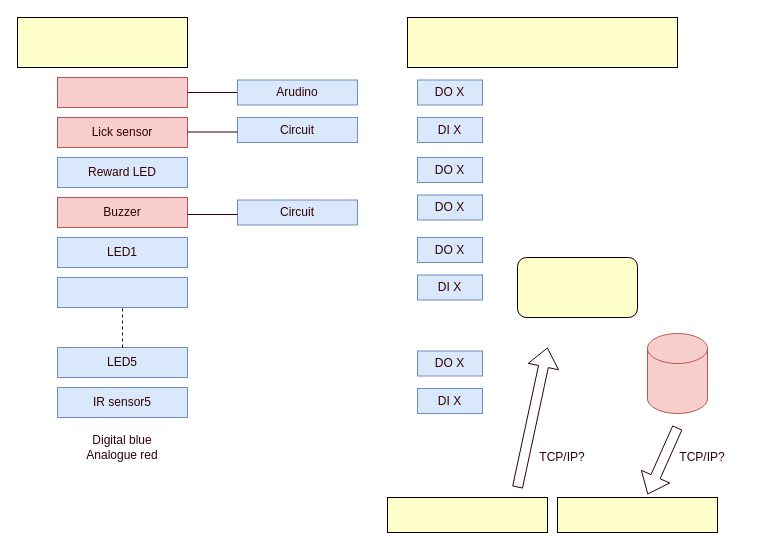
The diagram is 775 pixels wide and 551 high, and some of its shapes have lost their labels. The centre of each missing label's shape, as x and y in pixels:
Controller: point 577,287
IR sensor1: point 122,292
Operant chamber: point 102,42
Operation: point 467,514
Raspberry Pi: point 542,42
Realtime Data Browser: point 637,514
Syringe pump motor: point 122,92
